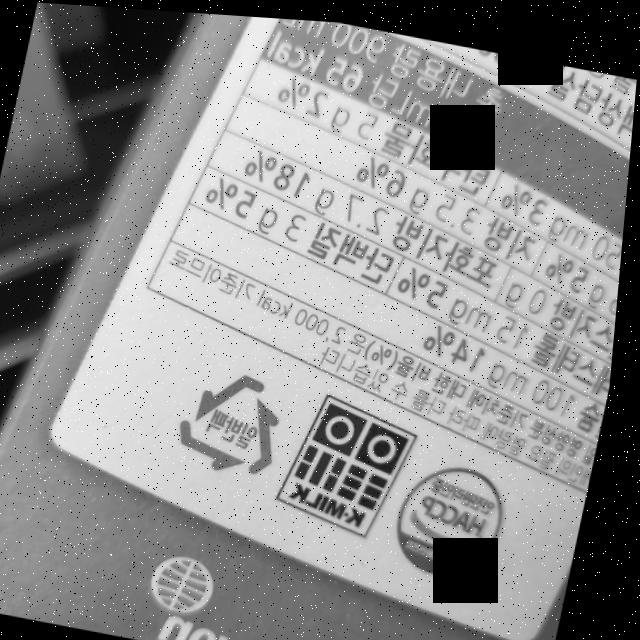NormalPack: (178, 354, 301, 483)
